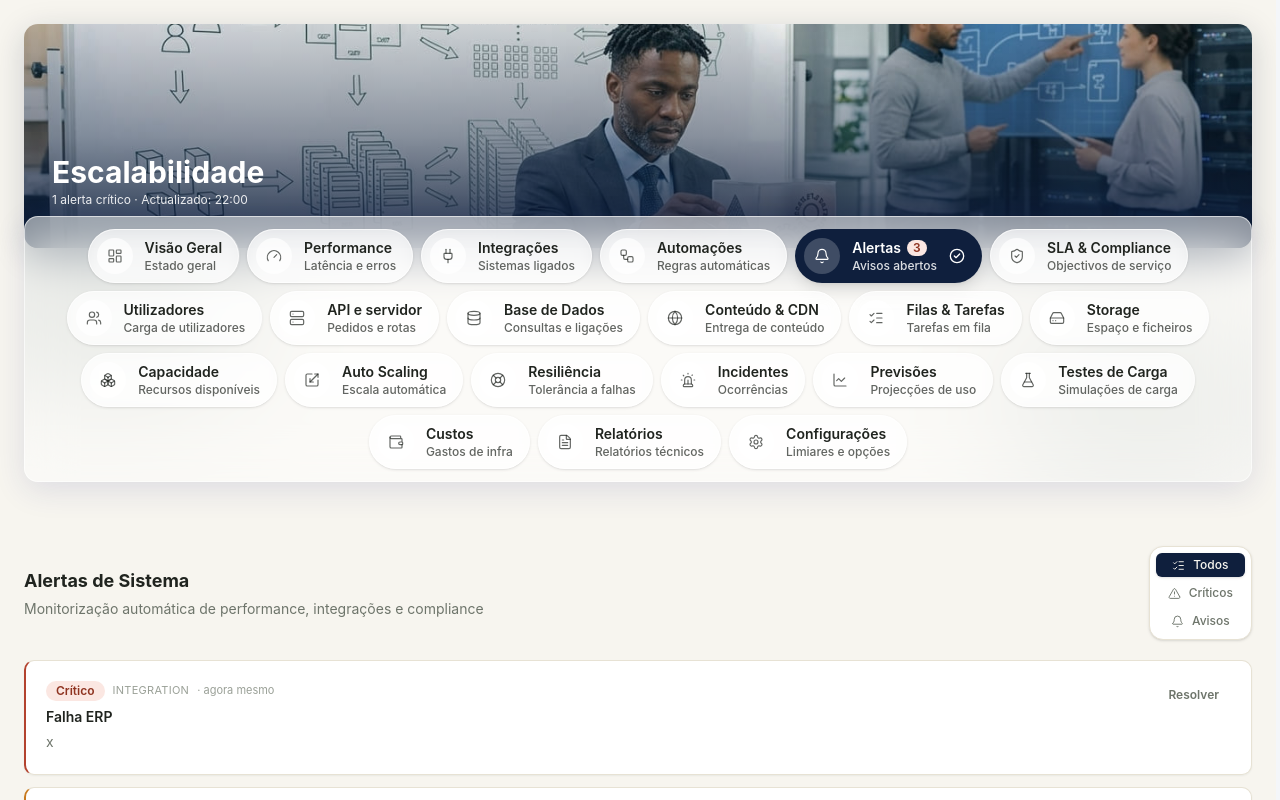
Test: ScalabilityDashboardView — alertas › "Avisos" mostra só os alertas WARNING
The width and height of the screenshot is (1280, 800).
What coordinates should you click on to do the following:
click the button "Avisos"
I would click on:
 (1200, 621)
Its box is 1156,609 -> 1245,633.
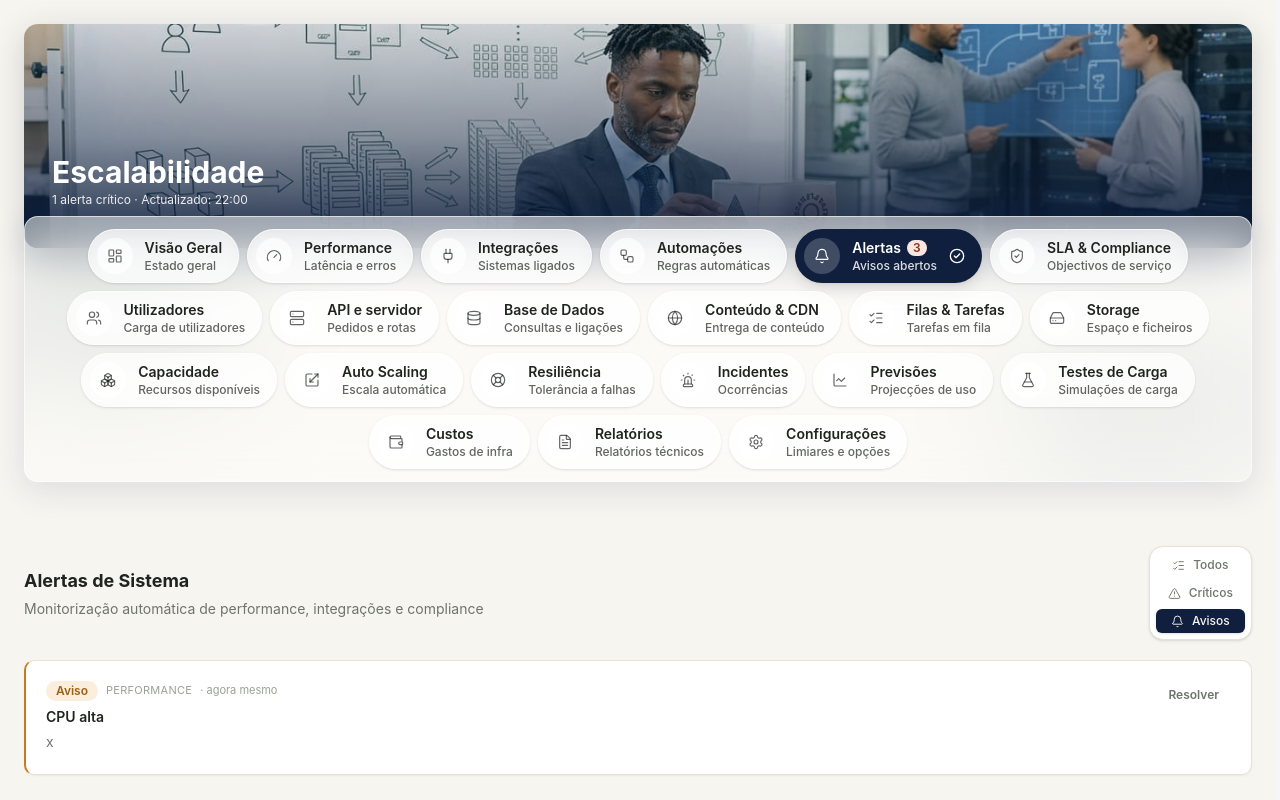
Expected: the text "CPU alta" is shown, 46,708 -> 104,725
Now the text "Falha ERP" is gone
